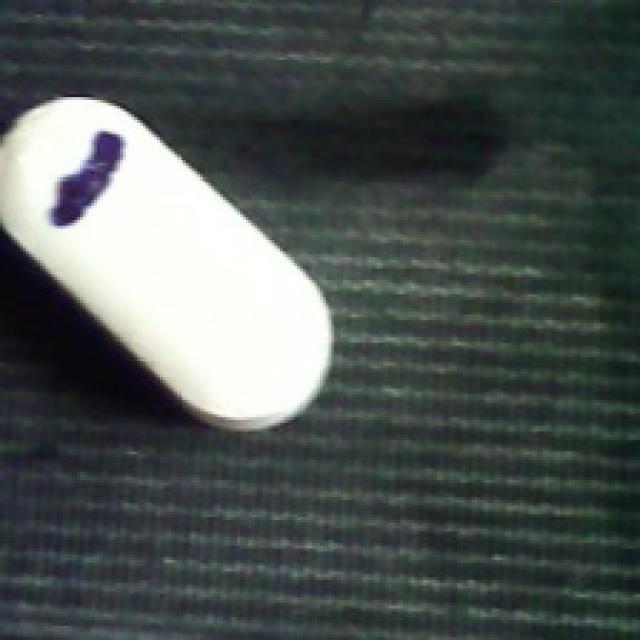defected: (0, 92, 337, 440)
